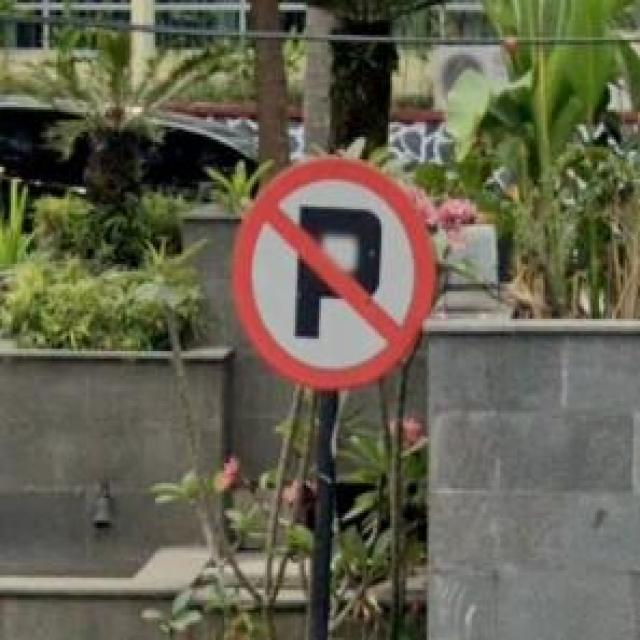traffic sign: (235, 162, 431, 388)
